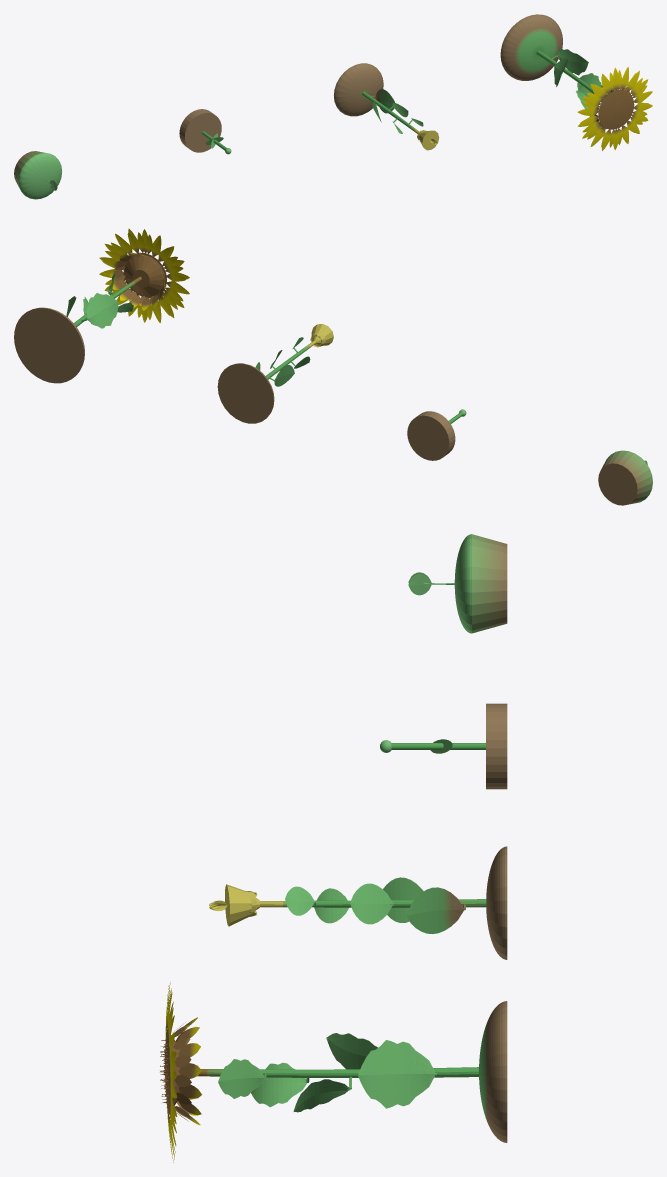
Rendered from sunflower.glb.
3 renders of one model, top to bottom at view 1: azimuth 30°, elevation 25°; view 2: azimuth 150°, elevation 25°; view 3: azimuth 270°, elevation 25°, orthographic. The views are drawn at different scales.
Visible parts, largest first — view 1: full, stage2_budding, stage1_seedling, stage1b_young_sprout; view 2: full, stage2_budding, stage1_seedling, stage1b_young_sprout; view 3: full, stage2_budding, stage1_seedling, stage1b_young_sprout.
Boxes of the visible parts, <box> form: full: <box>500,14,652,150</box>; stage2_budding: <box>334,63,439,150</box>; stage1_seedling: <box>14,151,62,199</box>; stage1b_young_sprout: <box>179,109,231,154</box>; full: <box>14,228,189,383</box>; stage2_budding: <box>217,324,333,423</box>; stage1_seedling: <box>598,450,652,505</box>; stage1b_young_sprout: <box>407,409,466,460</box>; full: <box>160,981,507,1162</box>; stage2_budding: <box>209,846,507,959</box>; stage1_seedling: <box>408,534,507,633</box>; stage1b_young_sprout: <box>380,703,507,789</box>.
Bounding box in the file's own units: 90.8 × 12.8 × 24.41.
